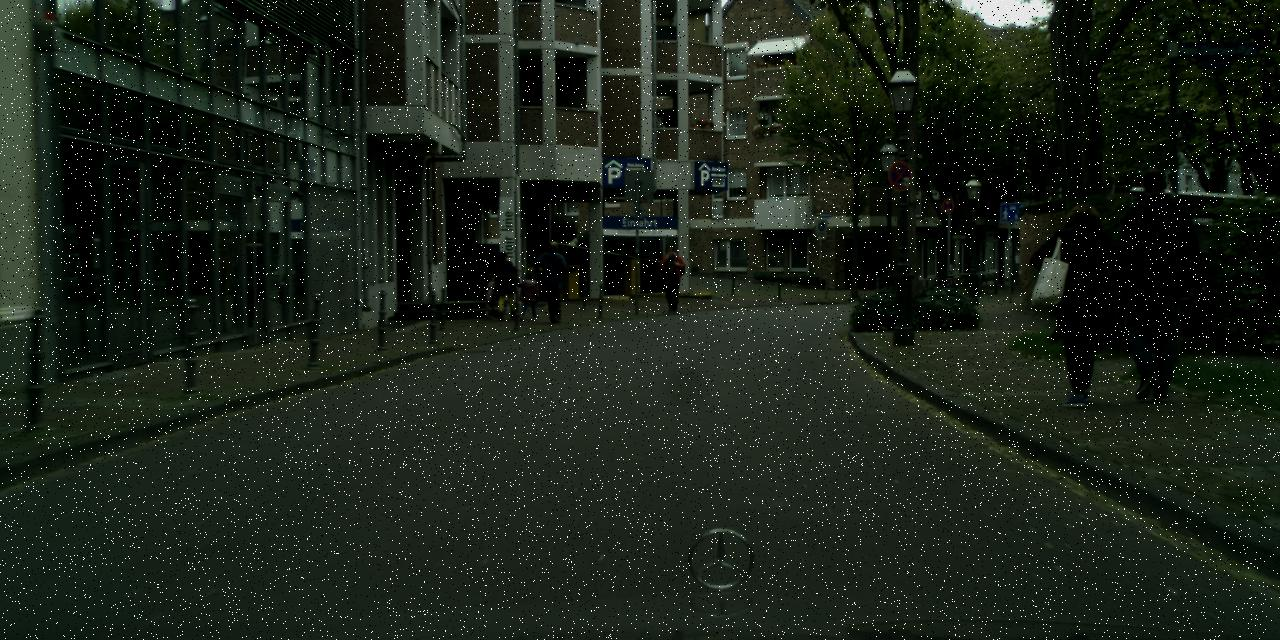ped: (1107, 166, 1201, 396), (1040, 203, 1122, 402), (536, 240, 570, 322), (491, 252, 519, 320), (658, 247, 684, 312), (519, 272, 539, 319), (480, 272, 500, 319)
